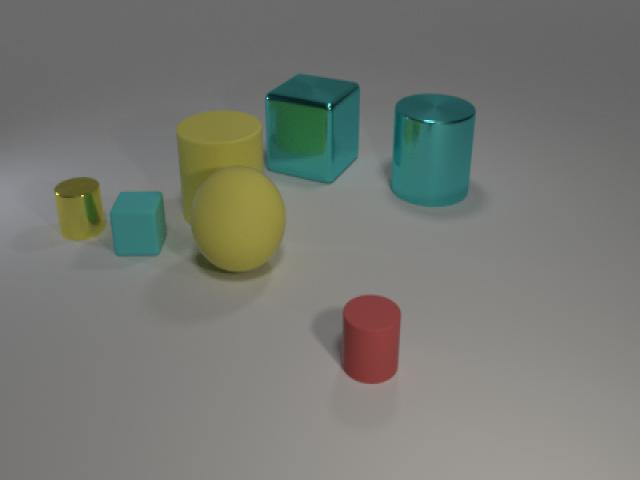cylinder: (386, 88, 482, 212), (174, 101, 266, 226), (336, 286, 404, 386), (48, 170, 107, 244)
round ball: (186, 163, 290, 276)
